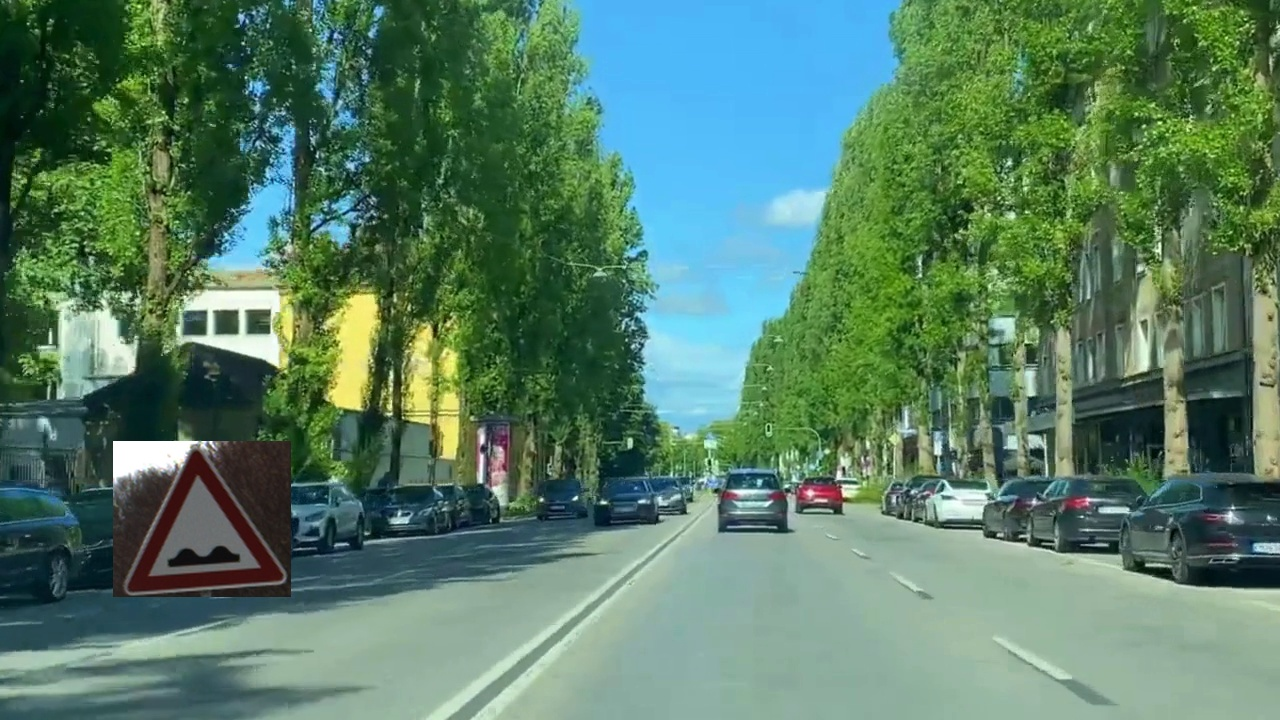Bumpy road: (113, 441, 291, 597)
